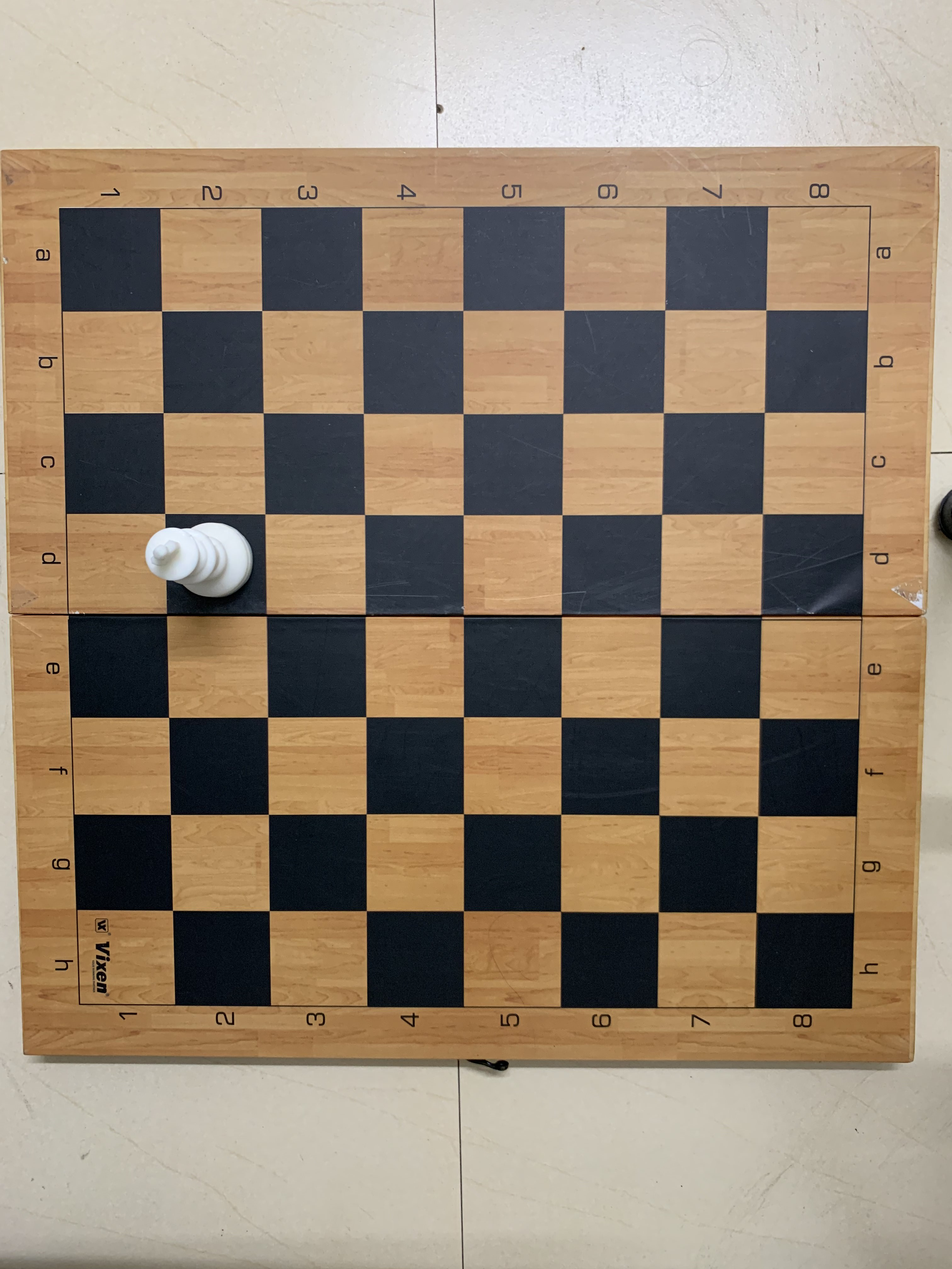white_king: (143, 513, 268, 615)
